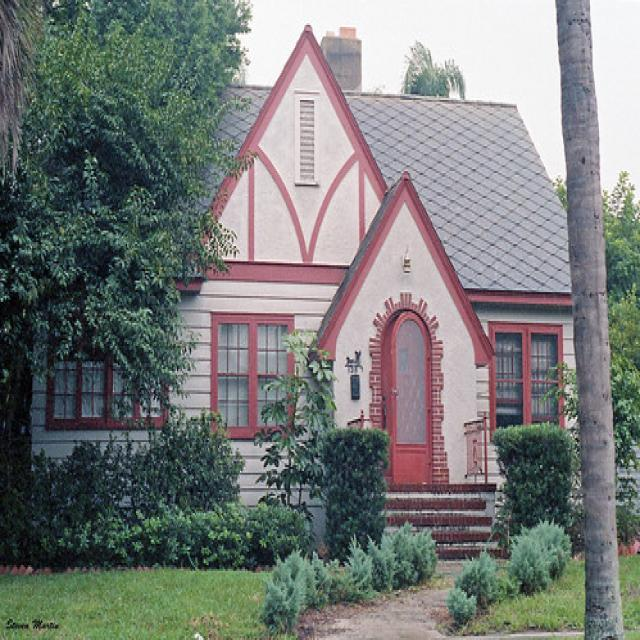Normal_building: (22, 25, 595, 569)
